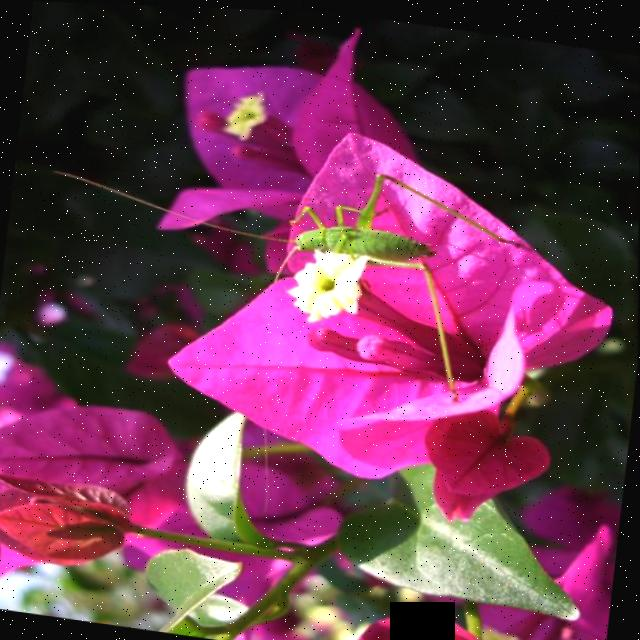bougainvillea: (139, 115, 638, 535), (97, 3, 549, 282), (0, 331, 351, 635)
